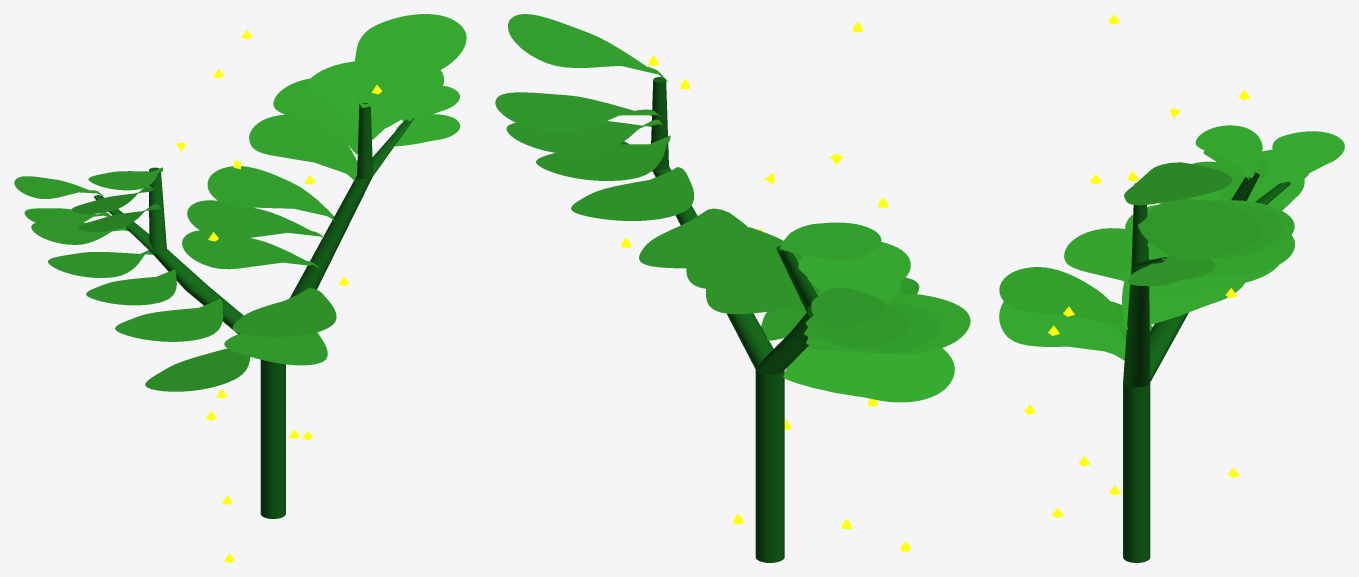
The model's file is planta.glb.
3 views of the same model, side by side, from view 1: azimuth 30°, elevation 25°; view 2: azimuth 150°, elevation 25°; view 3: azimuth 270°, elevation 25° (orthographic). The views are drawn at different scales.
Visible parts, largest first — view 1: plant_branches_0, leaf.015, BezierCircle.004, leaf, leaf.003, leaf.001, leaf.002, leaf.006, leaf.005, BezierCircle.001, leaf.004, BezierCircle.003 (+12 smaller); view 2: plant_branches_0, leaf.005, leaf, leaf.015, BezierCircle.004, BezierCircle.001, BezierCircle.003, leaf.001, leaf.012, BezierCircle.002, leaf.013, leaf.002 (+9 smaller); view 3: plant_branches_0, BezierCircle.001, leaf.003, leaf.004, leaf.015, leaf.006, leaf.011, leaf.012, BezierCircle.004, leaf.002, leaf, BezierCircle.002 (+9 smaller).
Boxes of the visible parts, box(x1,y1,x2,y2) form: plant_branches_0: box(93, 103, 413, 518); leaf.015: box(354, 14, 466, 107); BezierCircle.004: box(249, 114, 357, 181); leaf: box(207, 166, 335, 221); leaf.003: box(232, 288, 336, 337); leaf.001: box(187, 200, 324, 239); leaf.002: box(182, 230, 319, 269); leaf.006: box(115, 298, 223, 341); leaf.005: box(145, 348, 250, 391); BezierCircle.001: box(338, 64, 443, 134); leaf.004: box(224, 332, 327, 365); BezierCircle.003: box(273, 78, 358, 155); plant_branches_0: box(619, 77, 817, 562); leaf.005: box(783, 347, 954, 402); leaf: box(639, 208, 757, 268); leaf.015: box(508, 14, 668, 81); BezierCircle.004: box(571, 167, 693, 220); BezierCircle.001: box(495, 92, 660, 132); BezierCircle.003: box(536, 135, 670, 180); leaf.001: box(686, 227, 802, 289); leaf.012: box(779, 222, 881, 260); BezierCircle.002: box(506, 119, 662, 154); leaf.013: box(798, 251, 893, 296); leaf.002: box(706, 275, 819, 314); plant_branches_0: box(1123, 172, 1290, 562); BezierCircle.001: box(1138, 199, 1261, 259); leaf.003: box(999, 267, 1126, 333); leaf.004: box(999, 301, 1125, 360); leaf.015: box(1124, 162, 1232, 205); leaf.006: box(1064, 228, 1132, 281); leaf.011: box(1272, 131, 1344, 183); leaf.012: box(1195, 125, 1262, 179); BezierCircle.004: box(1148, 235, 1294, 275); leaf.002: box(1122, 266, 1244, 329); leaf: box(1149, 265, 1278, 297); BezierCircle.002: box(1141, 200, 1282, 258).
Bounding box in the file's own units: 2.6 × 3.03 × 1.86.
3 materials, 1 textured.
